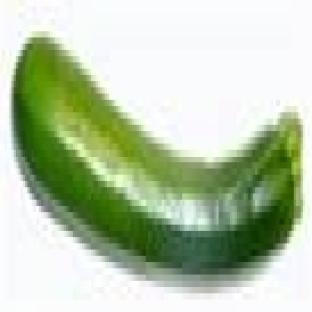Zucchini: (14, 38, 300, 274)
